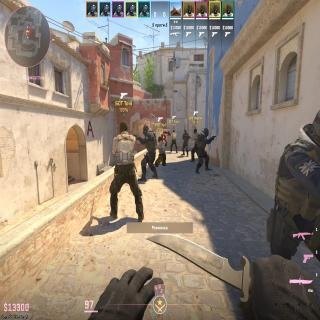CT-Body: (267, 108, 320, 259), (142, 124, 156, 179), (196, 127, 209, 170), (182, 130, 190, 158)
CT-Head: (312, 109, 320, 139), (203, 127, 209, 137), (143, 124, 149, 134), (184, 130, 187, 134)
T-Body: (110, 120, 144, 220), (157, 136, 166, 167), (192, 128, 198, 160), (170, 130, 177, 154)
T-Head: (119, 121, 128, 133), (158, 136, 162, 142), (193, 129, 197, 133), (173, 130, 175, 133)
